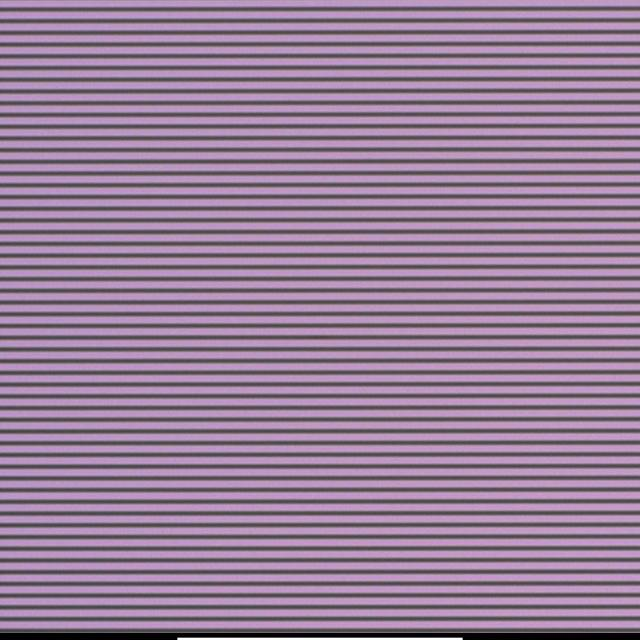03_intrusion: (339, 319, 345, 328)
